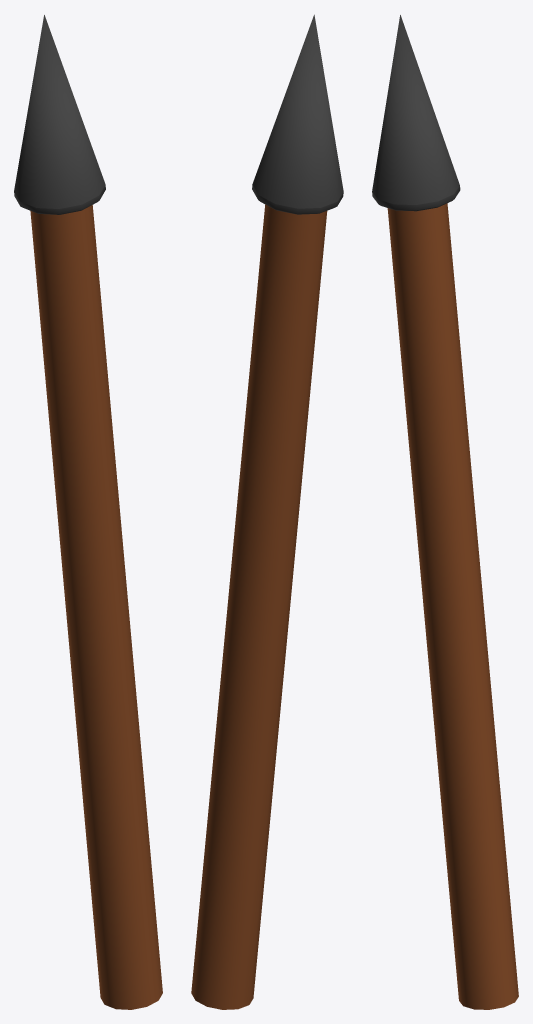
The model's file is kucukmizrak.fbx.
3 renders of one model, left to right at view 1: azimuth 30°, elevation 25°; view 2: azimuth 150°, elevation 25°; view 3: azimuth 330°, elevation 25°, orthographic. The views are drawn at different scales.
Parts seen in each view (by area): view 1: Circle.001; view 2: Circle.001; view 3: Circle.001.
Boxes of the visible parts, <box> form: Circle.001: <box>14,15,162,1009</box>; Circle.001: <box>191,14,343,1009</box>; Circle.001: <box>372,15,518,1009</box>.
Size of the model in its own units: 79.02 by 540 by 43.76.
